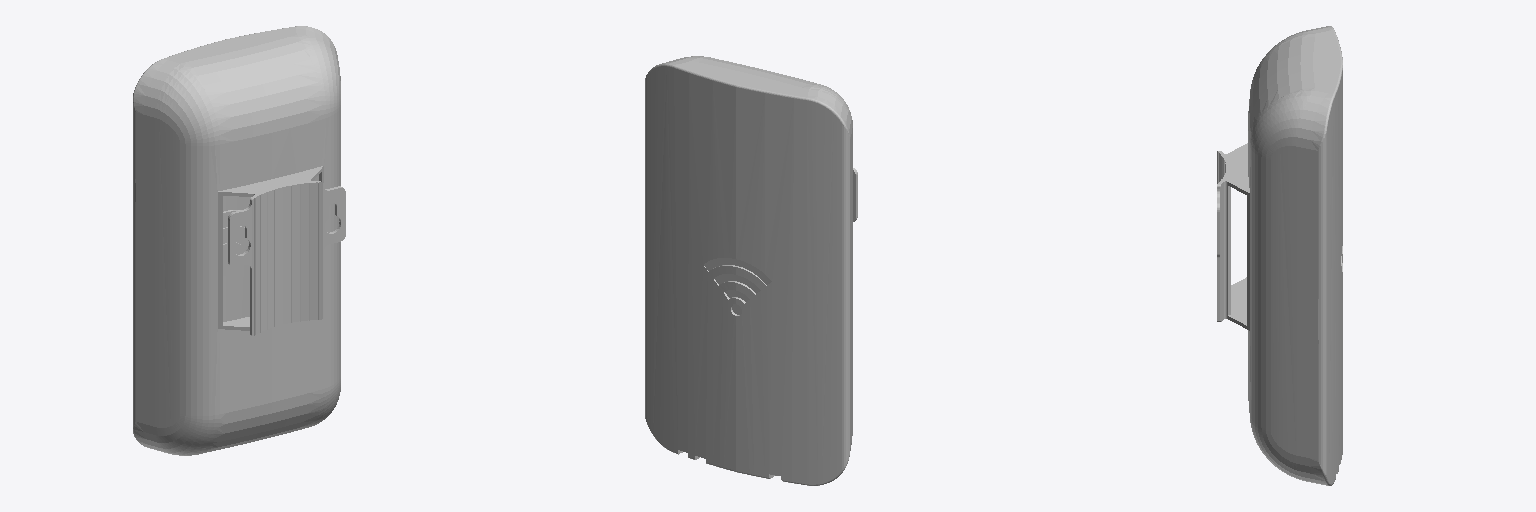
Rendered from generic_sensor_HYT_2.obj.
3 renders of one model, left to right at view 1: azimuth 30°, elevation 25°; view 2: azimuth 150°, elevation 25°; view 3: azimuth 270°, elevation 25°, orthographic.
Visible parts, largest first — view 1: Smart lock Gateway DG1-001; view 2: Smart lock Gateway DG1-001, Smart lock Gateway DG1-001-2; view 3: Smart lock Gateway DG1-001.
Part boxes in pixels (x1,y1,x2,y2): Smart lock Gateway DG1-001: (133,26,345,455); Smart lock Gateway DG1-001: (645,56,857,485); Smart lock Gateway DG1-001-2: (704,258,771,315); Smart lock Gateway DG1-001: (1217,26,1342,485).
Size of the model in its own units: 109 by 198 by 58.6.